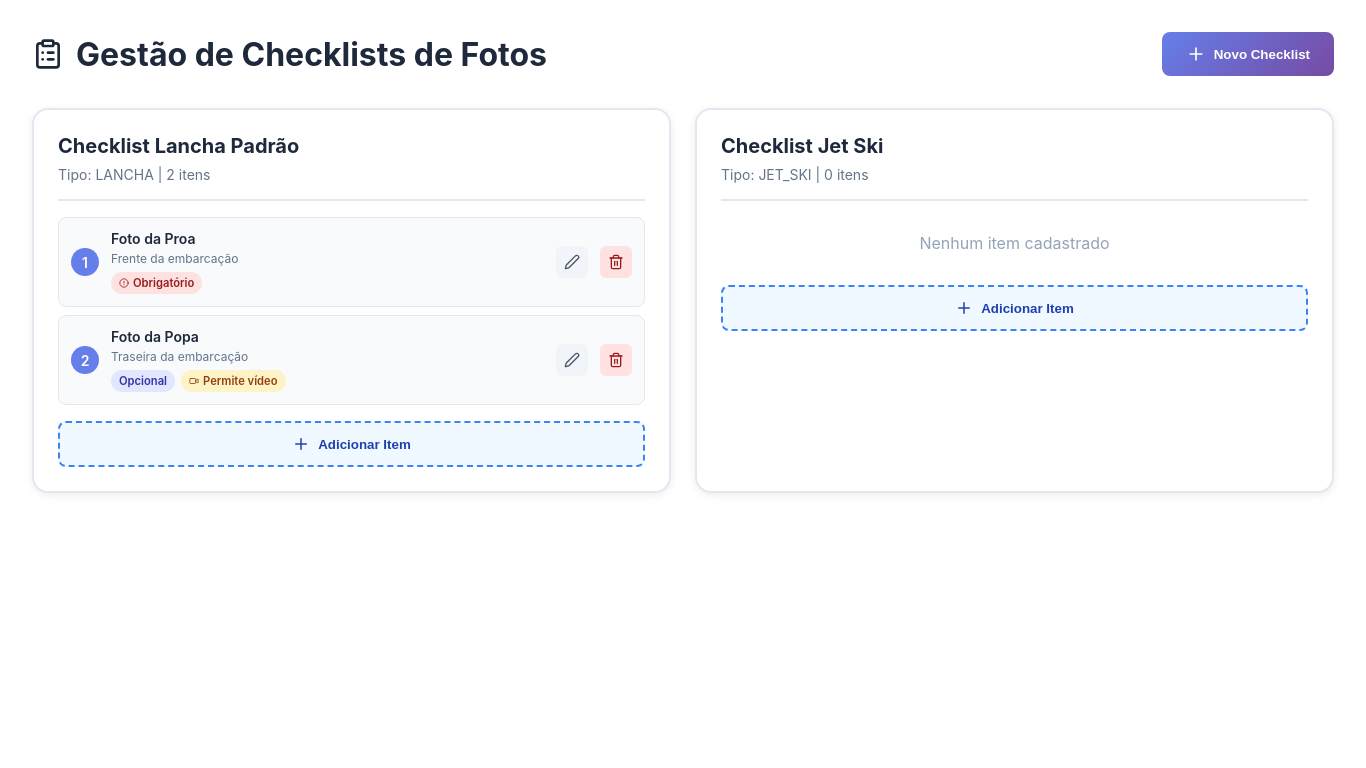
Test case: ChecklistTemplates › Criar novo template › deve fechar modal ao clicar em Cancelar
The image size is (1366, 768).
Click the button "Novo Checklist" at x=1248, y=54, box [1162,32,1334,76]
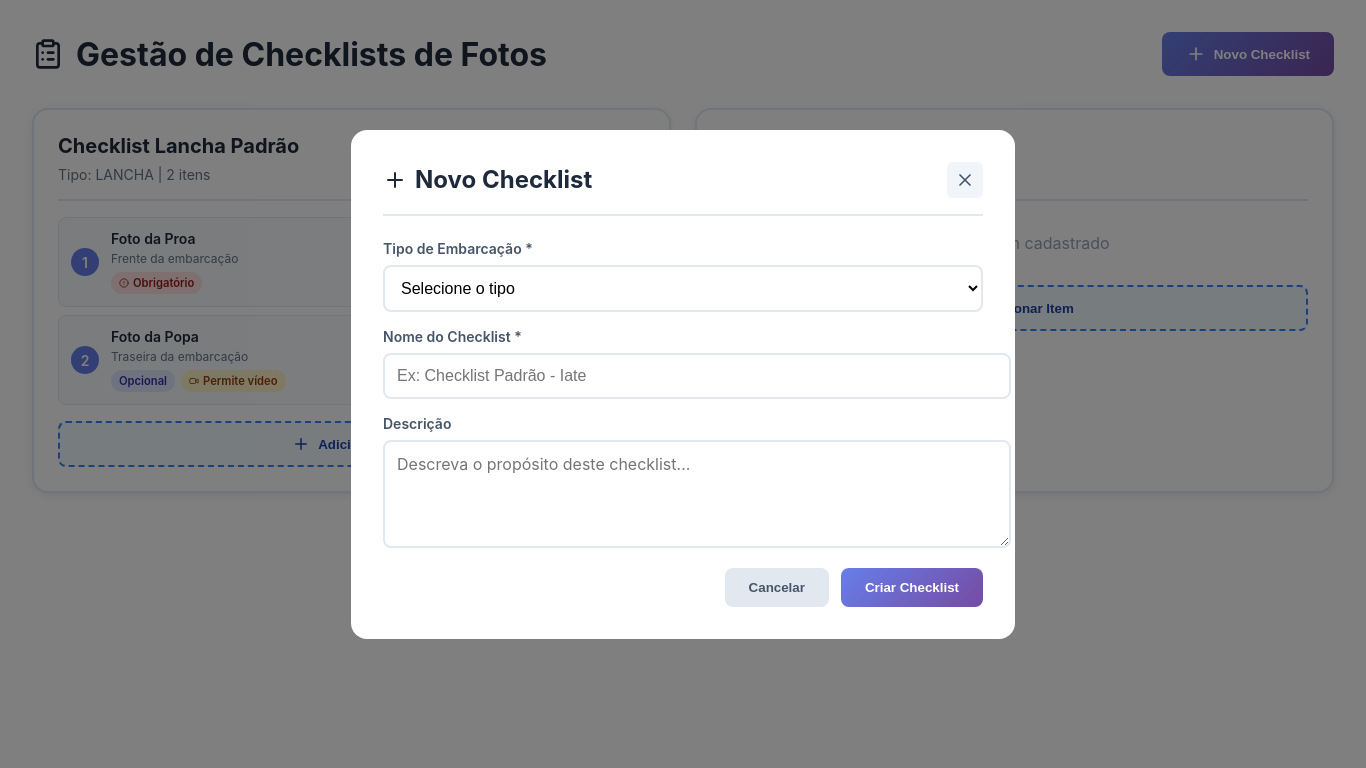
expect the button "Cancelar" is shown: met
Click the button "Cancelar" at x=777, y=587, box [725,568,829,606]
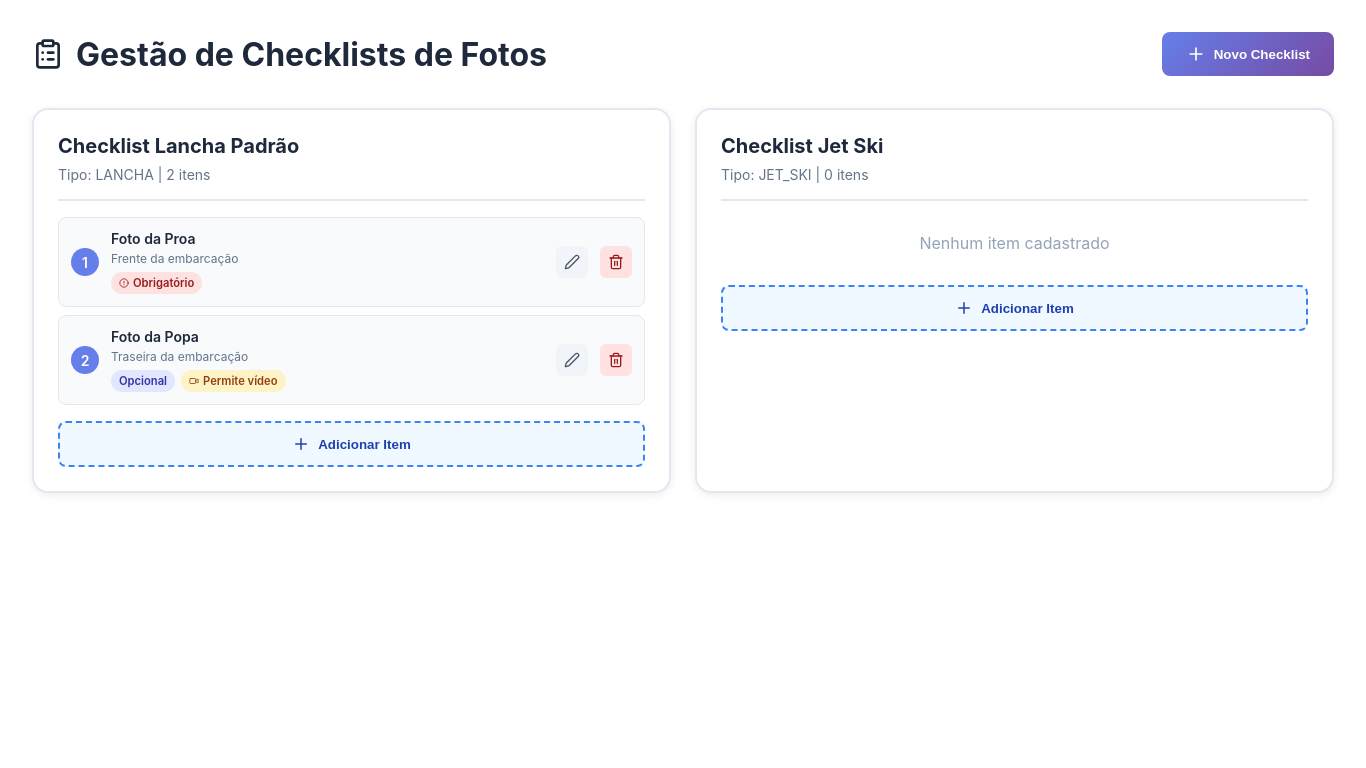
expect the text "Tipo de Embarcação *" is gone: met
